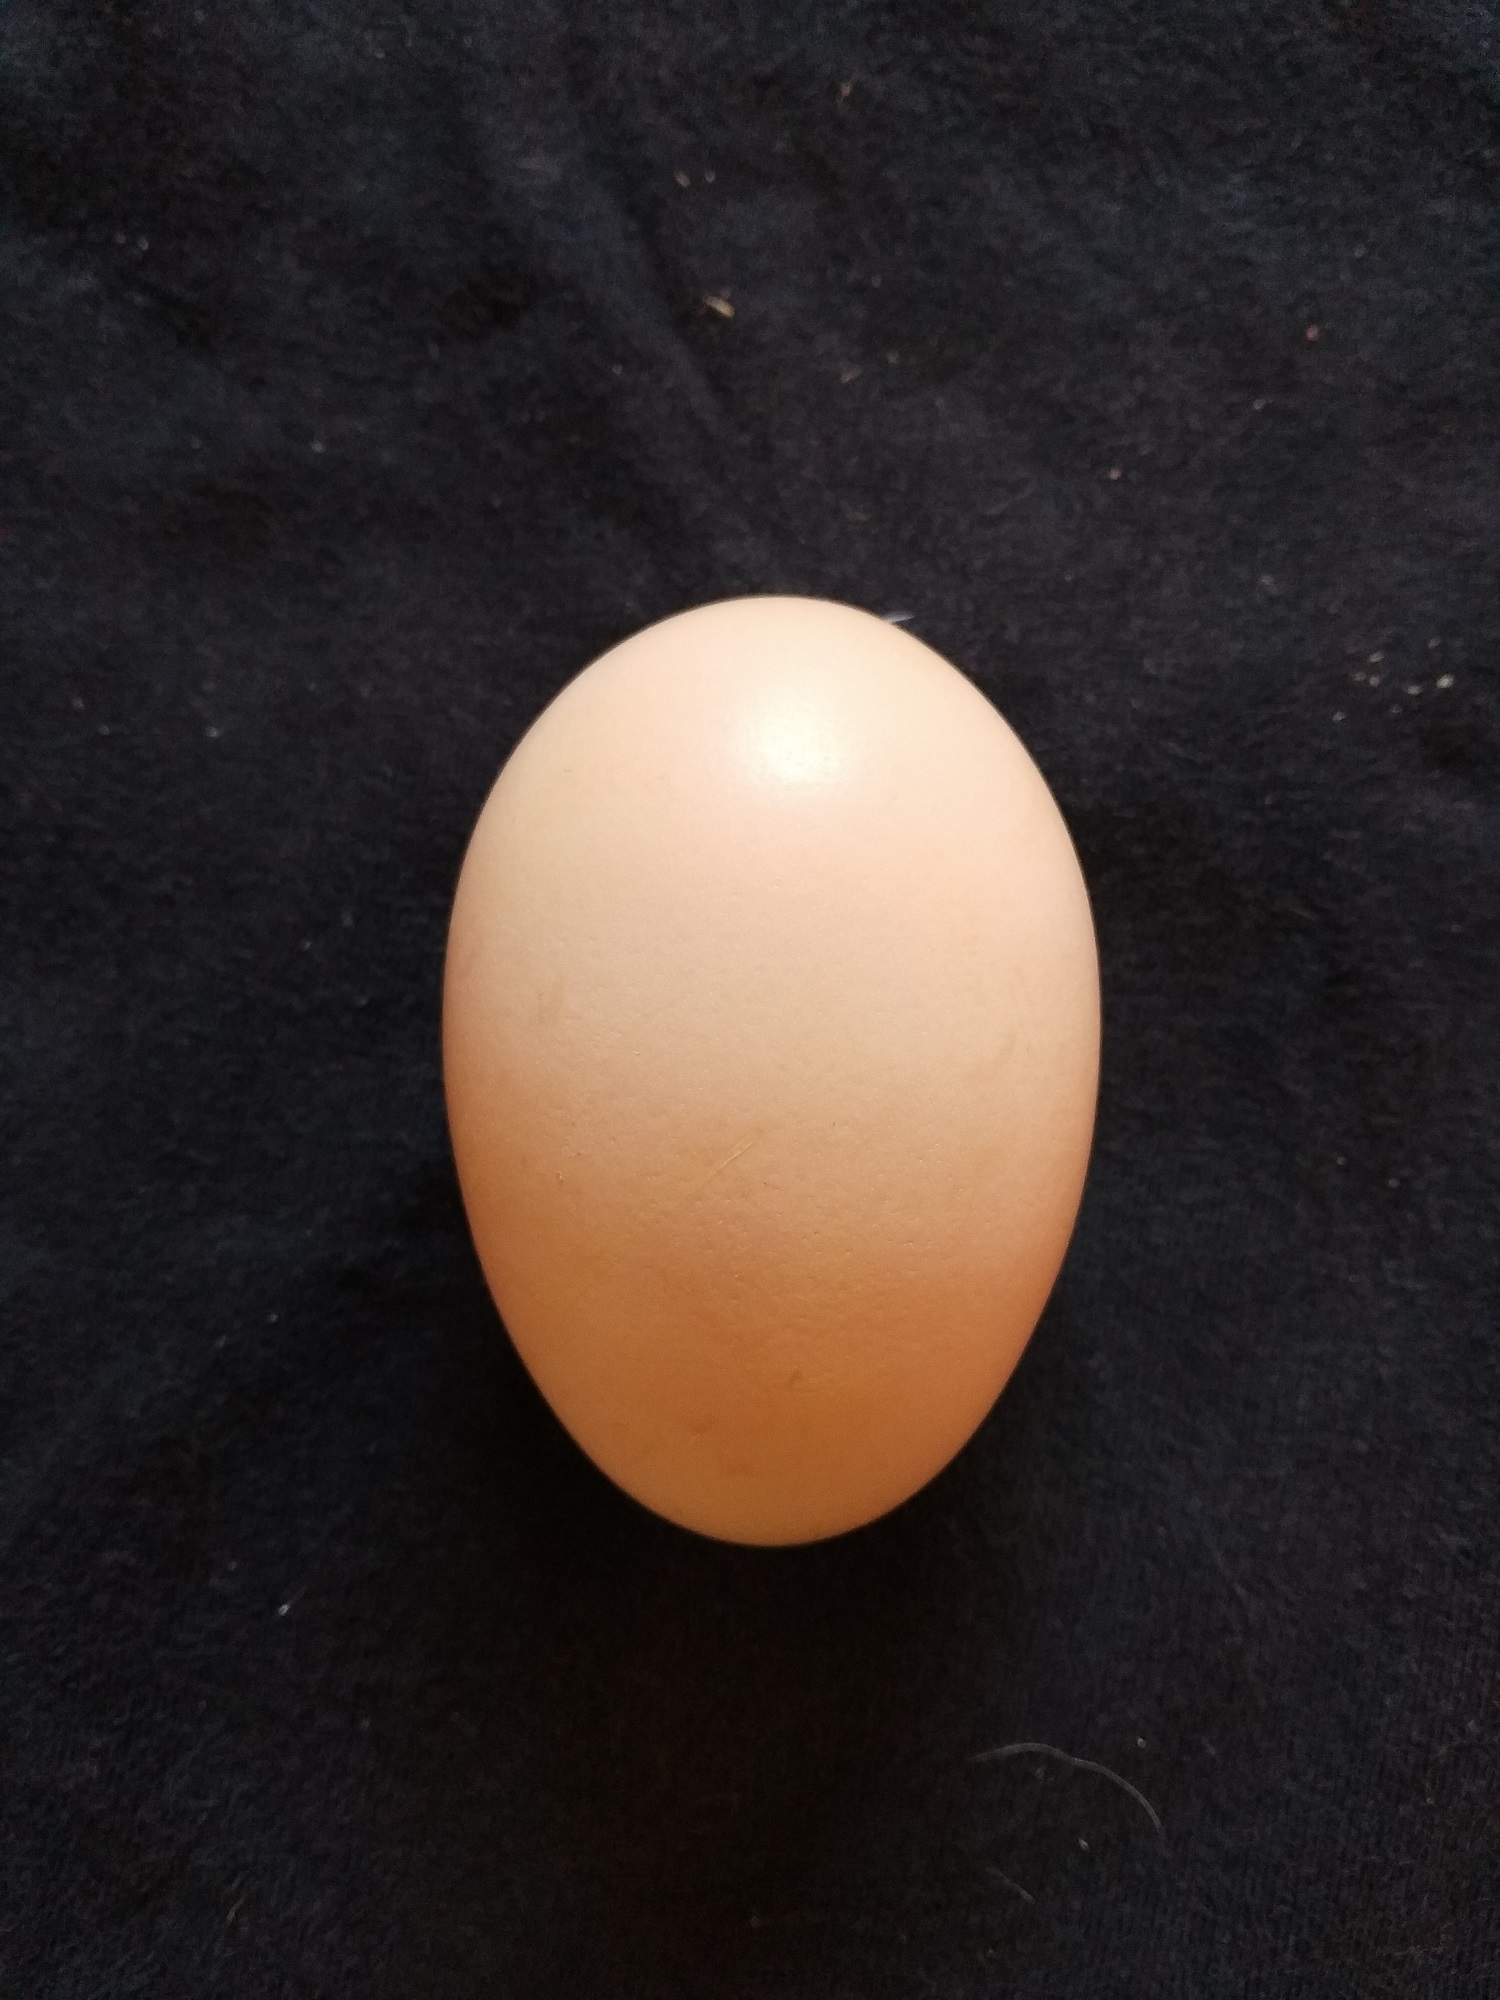Male: (433, 587, 1111, 1556)
